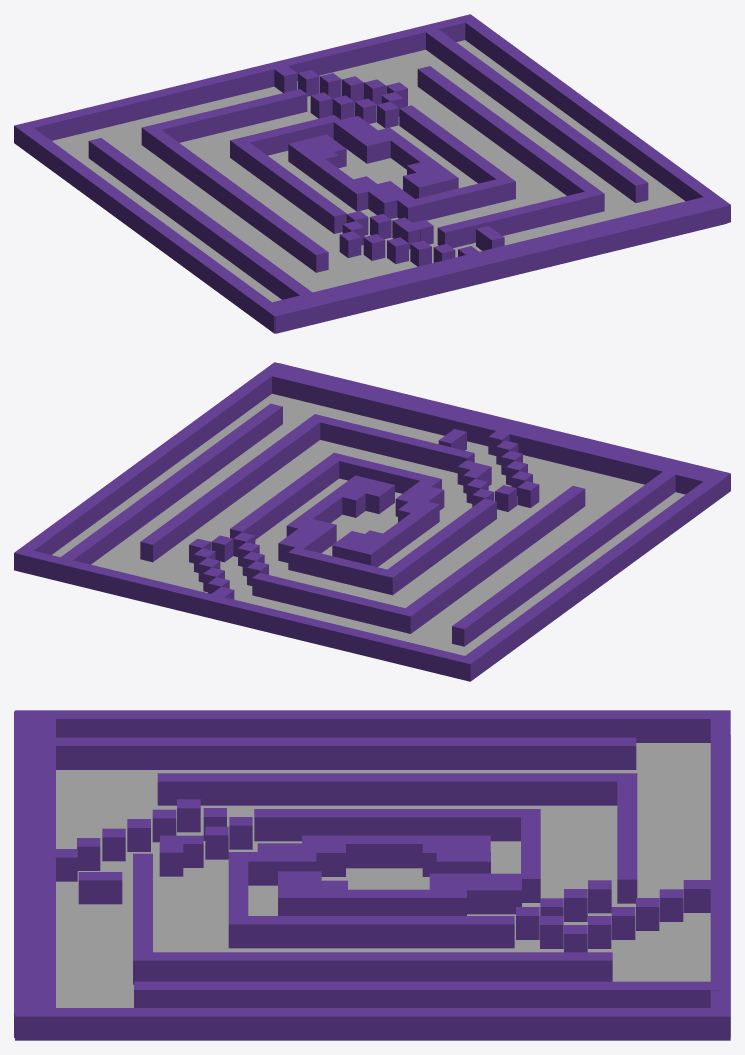
The model's file is level5.fbx.
The picture shows the model from 3 angles, top to bottom: view 1: azimuth 30°, elevation 25°; view 2: azimuth 150°, elevation 25°; view 3: azimuth 270°, elevation 25°; orthographic projection. The views are drawn at different scales.
Visible parts, largest first — view 1: walls, floor; view 2: walls, floor; view 3: walls, floor.
Boxes of the visible parts, x1=… form: walls: x1=14, y1=14, x2=730, y2=333; floor: x1=52, y1=40, x2=685, y2=302; walls: x1=14, y1=362, x2=730, y2=681; floor: x1=18, y1=393, x2=685, y2=681; walls: x1=14, y1=710, x2=730, y2=1040; floor: x1=56, y1=735, x2=730, y2=1037.
Size of the model in its own units: 50.54 by 1.86 by 50.04.
